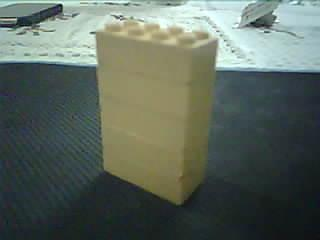lego: (93, 14, 219, 208)
